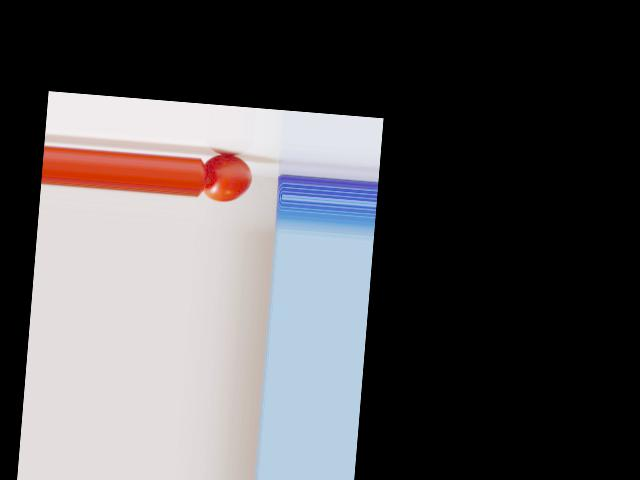tomato: (202, 152, 253, 203)
